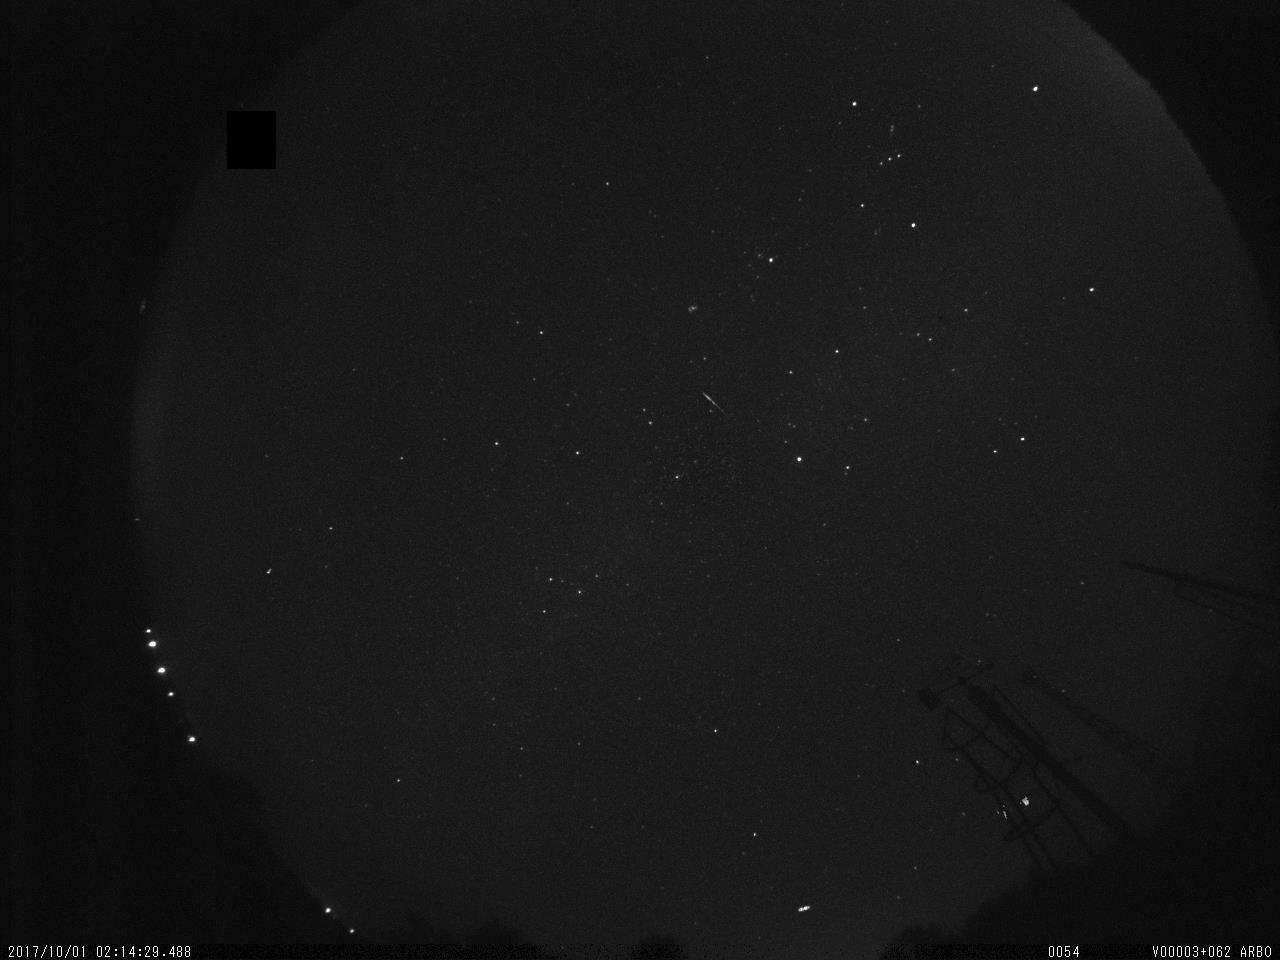TLE: (988, 781, 1036, 827)
